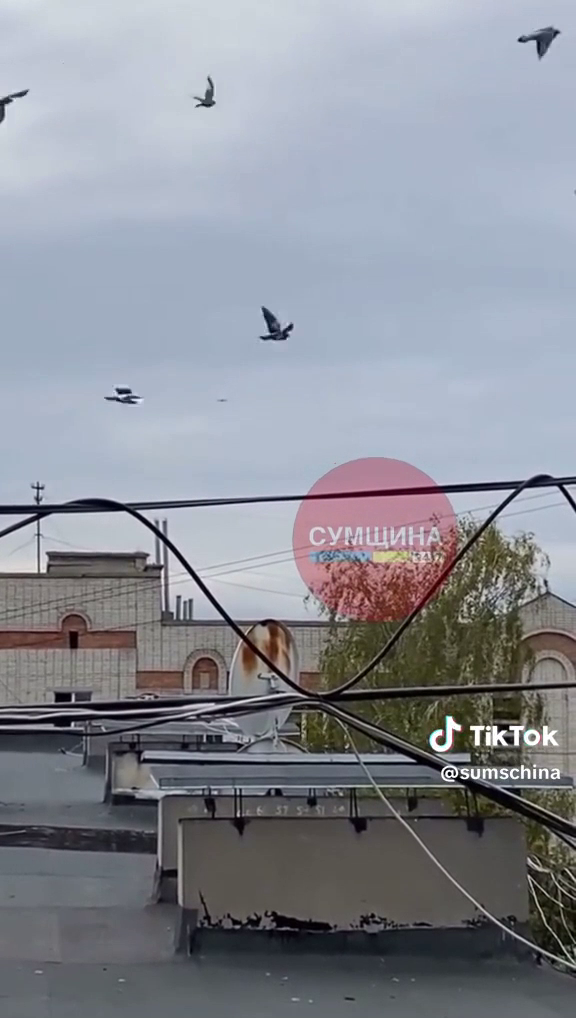not_drone: (513, 24, 565, 64), (256, 302, 298, 349), (100, 379, 145, 412), (186, 69, 218, 112)
